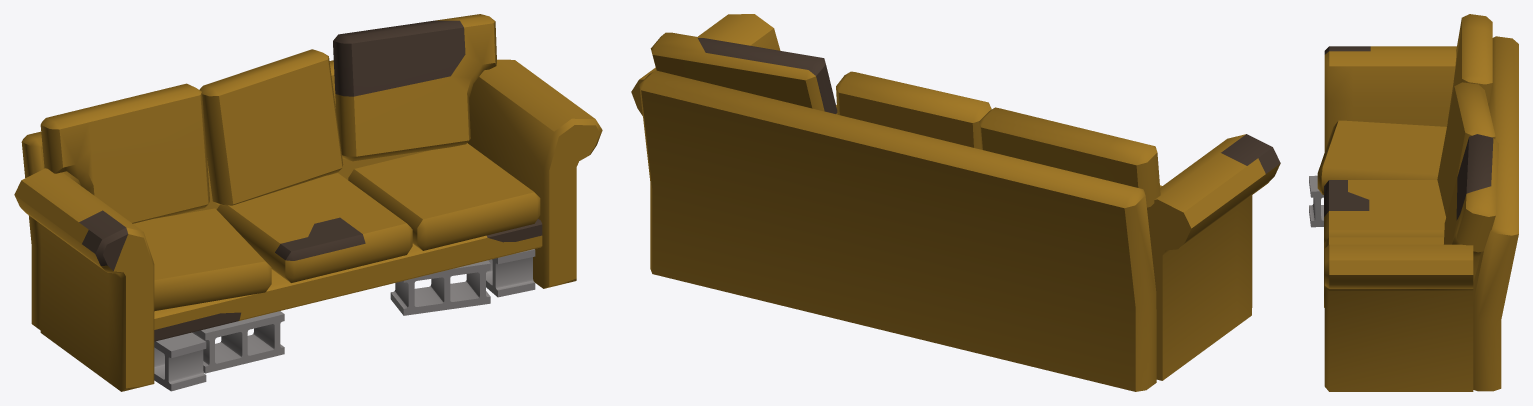
Rendered from Couch.fbx.
3 renders of one model, left to right at view 1: azimuth 30°, elevation 25°; view 2: azimuth 150°, elevation 25°; view 3: azimuth 270°, elevation 25°, orthographic. The views are drawn at different scales.
Visible parts, largest first — view 1: Couch; view 2: Couch; view 3: Couch.
Part boxes in pixels (x1=…): Couch: x1=14, y1=14, x2=602, y2=391; Couch: x1=631, y1=14, x2=1280, y2=391; Couch: x1=1309, y1=14, x2=1518, y2=391.
Size of the model in its own units: 3.01 by 1.24 by 1.21.
Materials: 1 (1 with a texture image).
